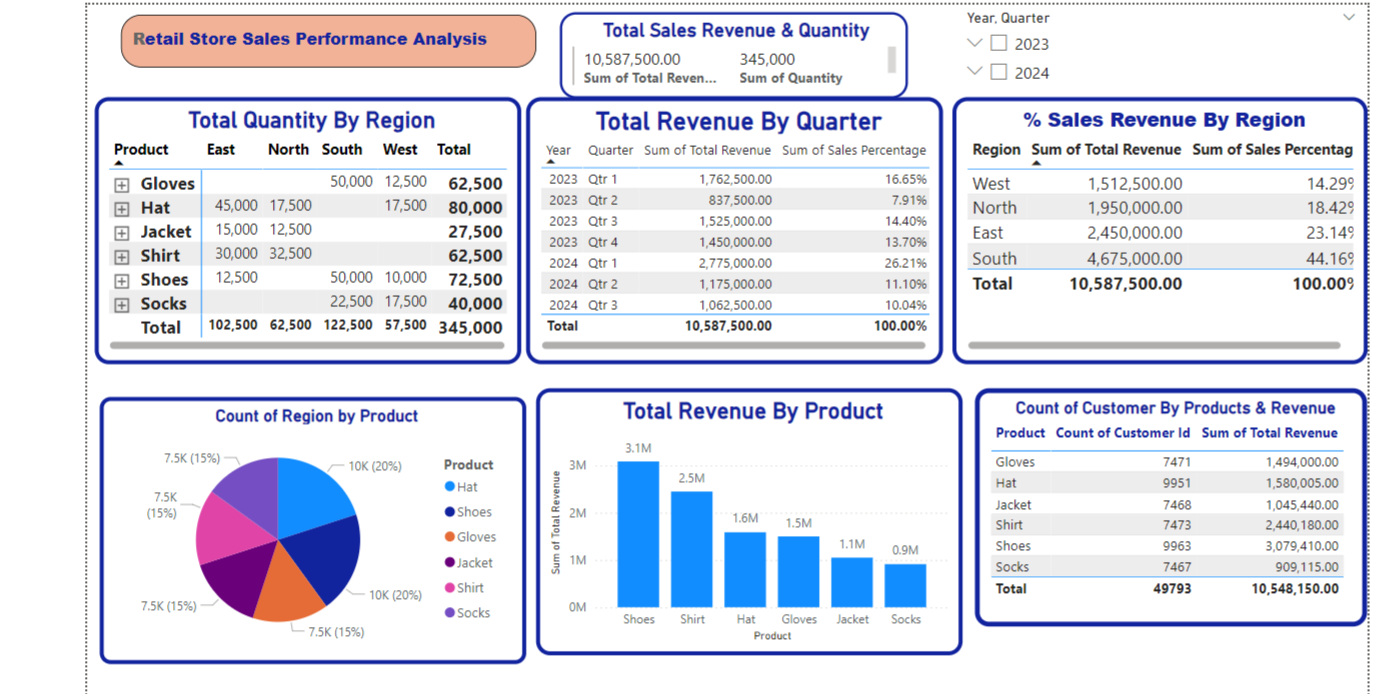

The page's visual inventory and layout, read from the dashboard file:
{"tool":"powerbi","page":{"name":"Page 1","canvas":[1280,720],"ordinal":0},"visuals":[{"type":"textbox","box":[34.1,10,415.3,52.6],"z":0},{"type":"pivotTable","title":"Total Quantity By Region","fields":{"Rows":["SalesData.Product","SalesData.Total Revenue"],"Columns":["SalesData.Region"],"Values":["Sum(SalesData.Quantity)"]},"box":[12.1,101.3,425.9,266.6],"z":1000},{"type":"clusteredColumnChart","title":"Total Revenue By Product","fields":{"Category":["SalesData.Product"],"Y":["Sum(SalesData.Total Revenue)"]},"box":[447.6,393.3,425.9,267.8],"z":2000},{"type":"slicer","fields":{"Values":["SalesData.OrderDate.Variation.Date Hierarchy.Year","SalesData.OrderDate.Variation.Date Hierarchy.Quarter"]},"box":[865.7,0,414.3,92.9],"z":3000},{"type":"pieChart","fields":{"Category":["SalesData.Region"],"Y":["Sum(SalesData.Quantity)"],"Series":["SalesData.Product"]},"box":[13,393,426,267],"z":4000},{"type":"tableEx","title":"% Sales Revenue By Region","fields":{"Values":["SalesData.Region","Sum(SalesData.Total Revenue)","Sum(SalesData.Sales Percentage)"]},"box":[865,101.3,415,266.6],"z":5000},{"type":"tableEx","title":"Total Revenue By Quarter","fields":{"Values":["SalesData.OrderDate.Variation.Date Hierarchy.Year","SalesData.OrderDate.Variation.Date Hierarchy.Quarter","SalesData.Total Revenue","Sum(SalesData.Sales Percentage)"]},"box":[447.6,102.5,417.4,266.6],"z":6000},{"type":"tableEx","title":"Count of Customer By Products & Revenue","fields":{"Values":["SalesData.Product","SalesData.Customer Id","Sum(SalesData.Total Revenue)"]},"box":[887.9,393.3,392.1,238.9],"z":7000},{"type":"multiRowCard","title":"Total Sales Revenue & Quantity","fields":{"Values":["Sum(SalesData.Total Revenue)","Sum(SalesData.Quantity)"]},"box":[473,7,348,86],"z":8000}]}

Visuals, with their boxes in screenshot pixels (x1, y1, x2, y2):
textbox: [x1=131, y1=6, x2=540, y2=58]
"Total Quantity By Region" pivotTable: [x1=110, y1=96, x2=529, y2=359]
"Total Revenue By Product" clusteredColumnChart: [x1=539, y1=384, x2=958, y2=648]
slicer - SalesData.OrderDate.Variation.Date Hierarchy.Year x SalesData.OrderDate.Variation.Date Hierarchy.Quarter: [x1=951, y1=0, x2=1359, y2=88]
pieChart - SalesData.Region x Sum(SalesData.Quantity): [x1=110, y1=384, x2=530, y2=647]
"% Sales Revenue By Region" tableEx: [x1=950, y1=96, x2=1359, y2=359]
"Total Revenue By Quarter" tableEx: [x1=539, y1=97, x2=950, y2=360]
"Count of Customer By Products & Revenue" tableEx: [x1=973, y1=384, x2=1359, y2=619]
"Total Sales Revenue & Quantity" multiRowCard: [x1=564, y1=3, x2=907, y2=88]
